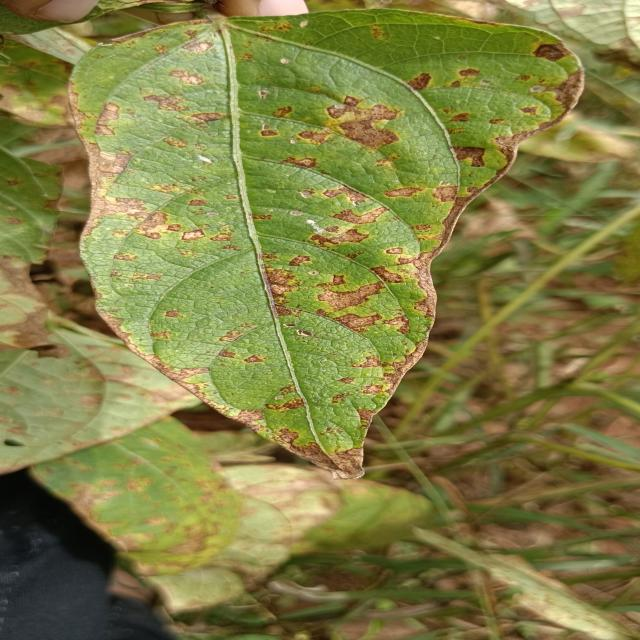Black gram_leaf spot: (72, 7, 576, 484)
